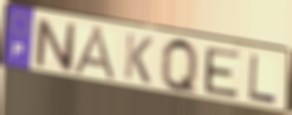A: (70, 25, 120, 83)
E: (203, 46, 242, 101)
K: (122, 31, 155, 87)
L: (247, 53, 279, 106)
N: (34, 15, 77, 75)
Q: (159, 36, 200, 99)
